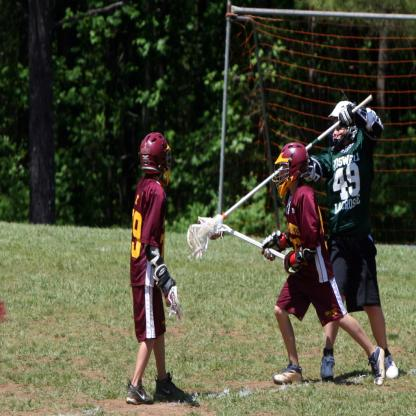Helmet: (272, 143, 308, 199), (330, 95, 364, 154), (136, 129, 170, 185), (305, 154, 327, 186)
